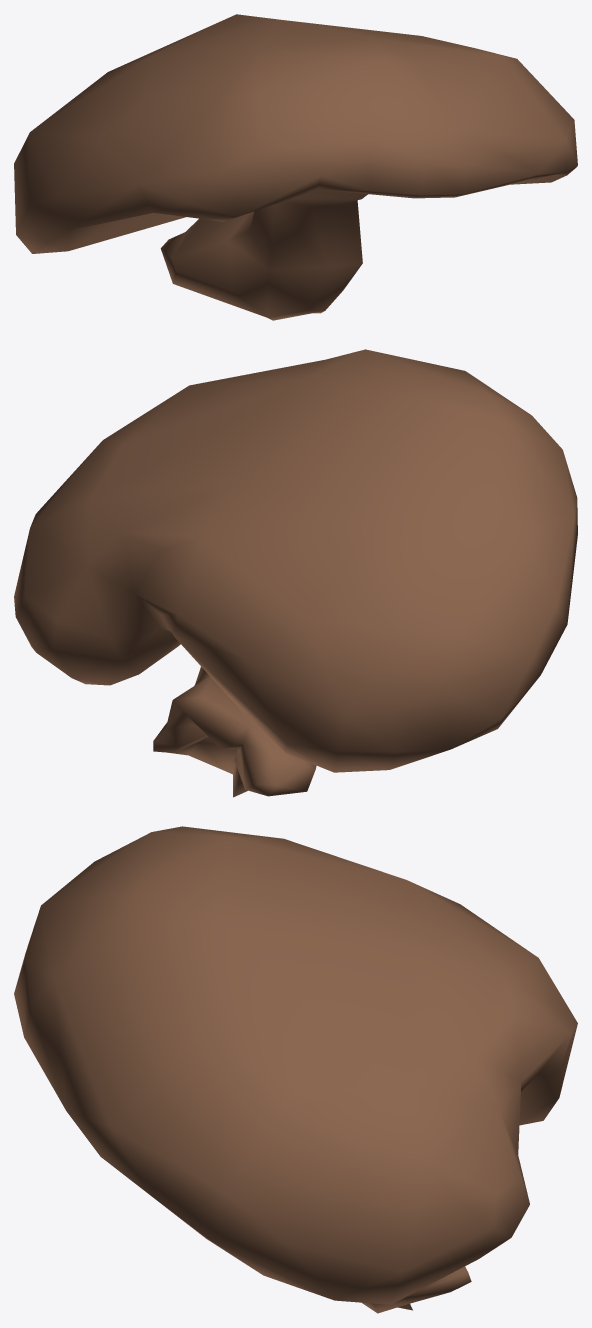
Rendered from Scatter_Mushroom_03_SM.fbx.
The picture shows the model from 3 angles, top to bottom: view 1: azimuth 30°, elevation 25°; view 2: azimuth 150°, elevation 25°; view 3: azimuth 270°, elevation 25°; orthographic projection. The views are drawn at different scales.
Visible parts, largest first — view 1: Scatter_Mushroom_03_SM; view 2: Scatter_Mushroom_03_SM; view 3: Scatter_Mushroom_03_SM.
Part boxes in pixels (<box>): Scatter_Mushroom_03_SM: <box>14,14,577,320</box>; Scatter_Mushroom_03_SM: <box>14,349,577,797</box>; Scatter_Mushroom_03_SM: <box>14,826,577,1313</box>.
Size of the model in its own units: 2920 by 1968 by 2422.
